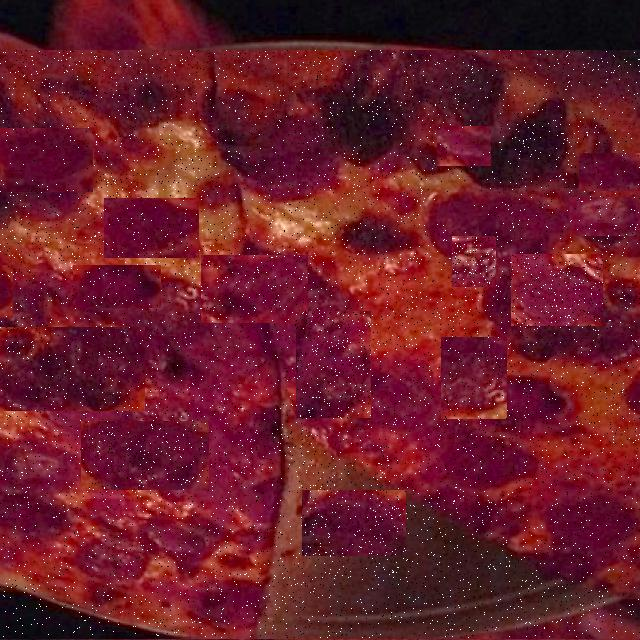Pepperoni: (0, 328, 145, 411), (81, 422, 209, 490), (296, 312, 371, 418), (202, 256, 310, 323), (303, 491, 407, 556), (511, 255, 603, 326), (0, 129, 93, 192), (104, 200, 199, 260), (441, 338, 507, 419), (378, 57, 457, 107), (0, 428, 63, 488), (73, 266, 161, 308), (425, 176, 492, 230), (570, 198, 636, 236), (579, 154, 640, 191), (452, 237, 496, 287), (437, 127, 491, 166), (504, 105, 542, 142), (0, 266, 13, 318)
Pizza: (0, 51, 640, 638)
